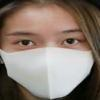mask: (1, 48, 96, 98)
